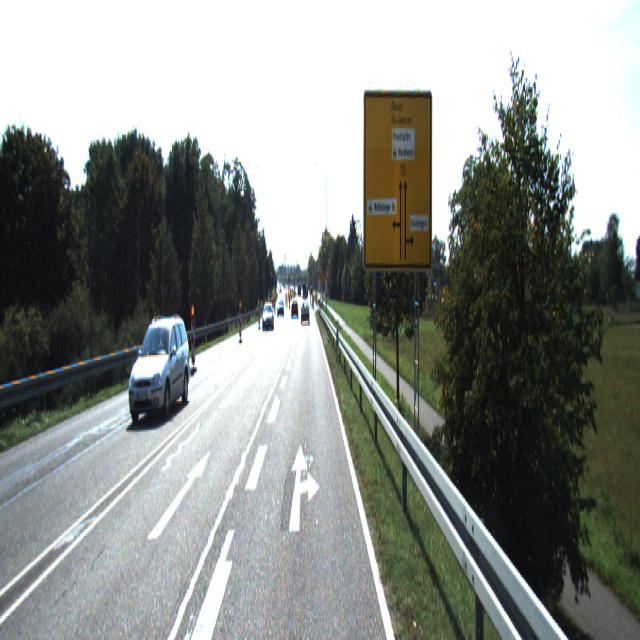Car: (129, 318, 192, 424), (301, 302, 310, 324)
